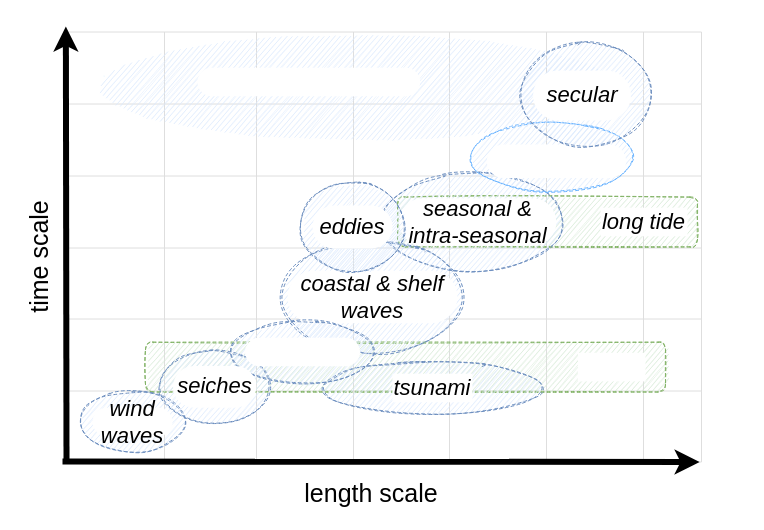
Some shapes in this 764 by 530 pixel diagram are drawn without their labels. The shapes that lost their labels are listed below. From the top down, each one's centre as x and y in pixels, then its label:
At [308,81]: "bathymetry/geology".
At [556,160]: "inter-annual".
At [302,351]: "local surge".
At [611,366]: "tide".
